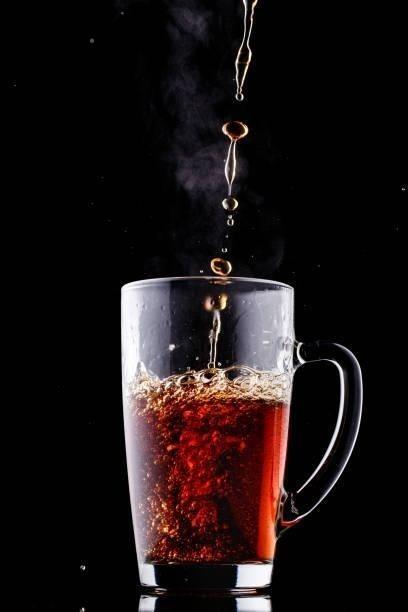glass-mug: (117, 273, 365, 596)
